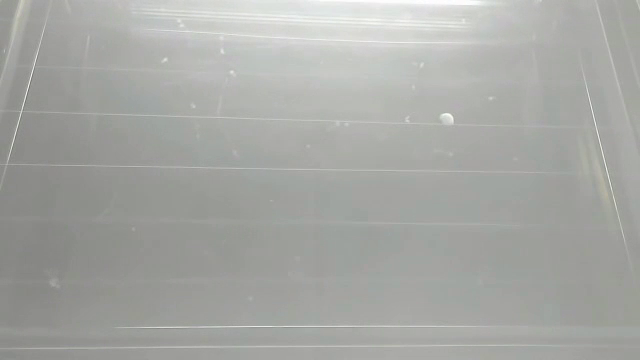alpha: (42, 272, 69, 292), (438, 108, 458, 131), (531, 1, 547, 6)
